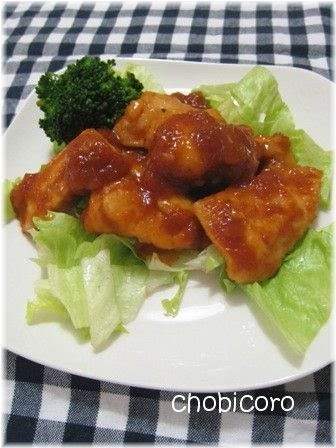background: (2, 38, 176, 250)
